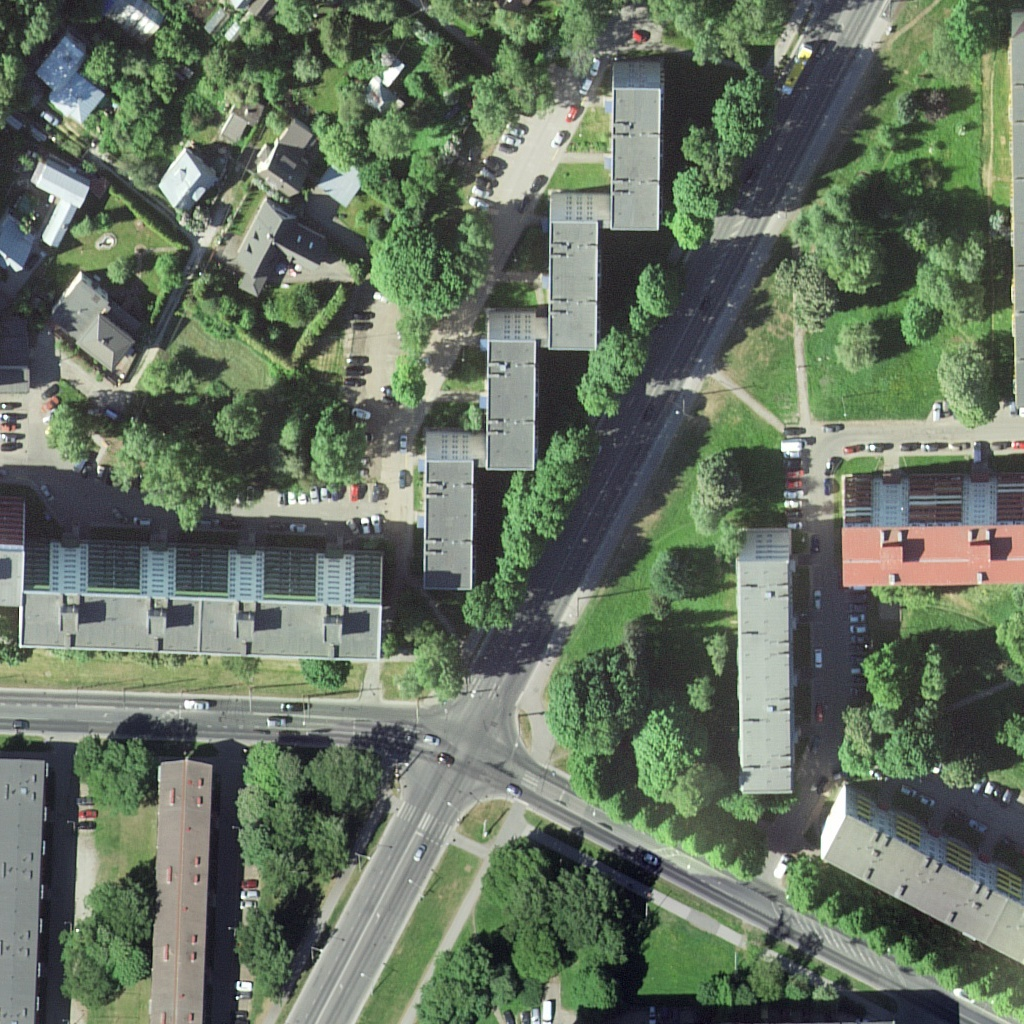building: (21, 543, 384, 665), (816, 789, 1024, 965), (838, 475, 1024, 596), (730, 526, 798, 802), (149, 759, 207, 1024), (3, 753, 49, 1024), (607, 61, 667, 238), (545, 190, 602, 357), (484, 305, 538, 476), (423, 425, 476, 597), (49, 271, 137, 372), (234, 201, 322, 283), (31, 156, 88, 250), (254, 125, 322, 198), (32, 41, 98, 115), (149, 153, 221, 211)
